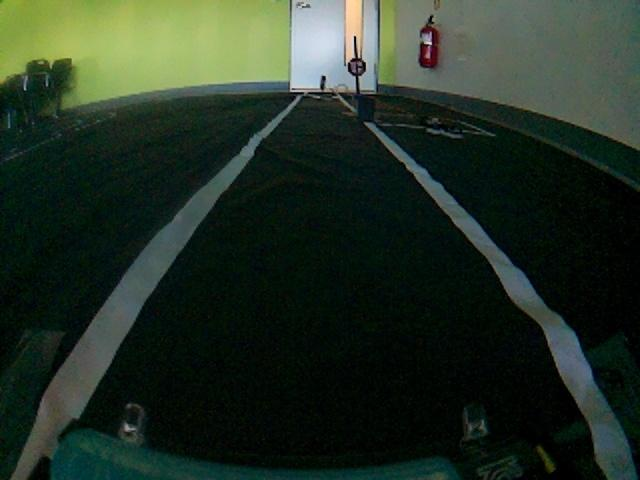go: (67, 148, 600, 480)
